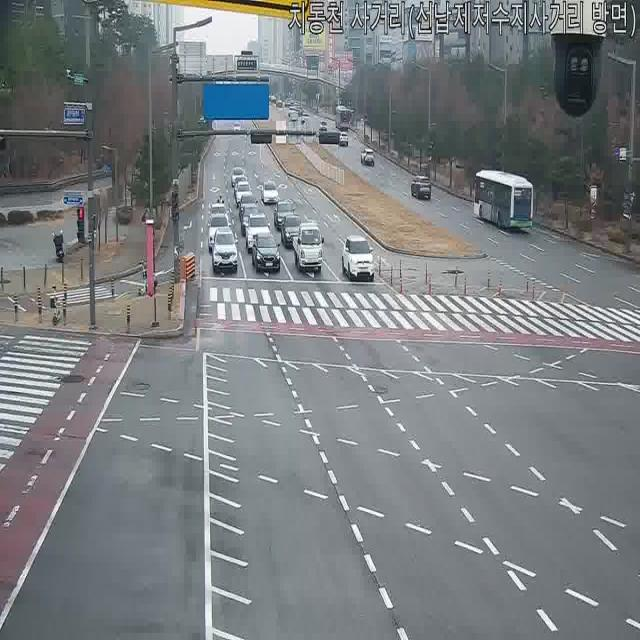Bus: (472, 169, 536, 233), (334, 104, 352, 131)
Car: (341, 234, 375, 282), (210, 229, 239, 274), (251, 233, 281, 274), (244, 213, 271, 252), (206, 214, 232, 250), (281, 214, 305, 249), (273, 200, 295, 231), (239, 207, 263, 235), (208, 201, 230, 231), (411, 175, 432, 200), (239, 193, 258, 220), (235, 180, 253, 208), (260, 180, 279, 206), (286, 109, 300, 135), (230, 167, 246, 188), (361, 148, 375, 166), (338, 130, 349, 148), (318, 120, 328, 134), (301, 111, 311, 123), (274, 97, 284, 108), (284, 97, 294, 107)
Motorcycle: (216, 192, 225, 213)
Truck: (294, 221, 324, 273)
